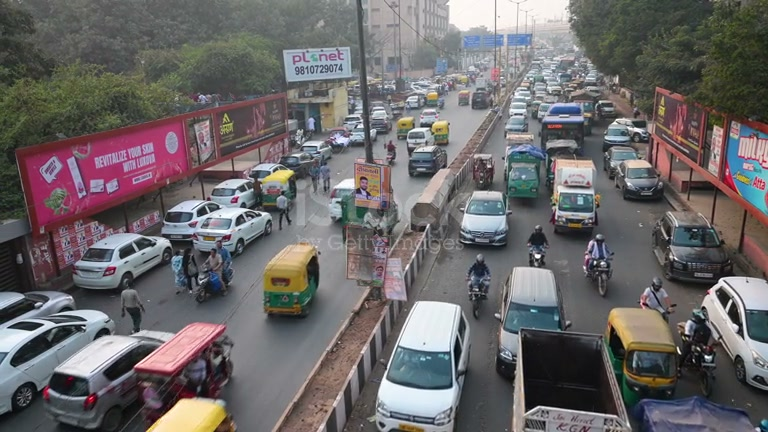bus: (540, 103, 585, 150), (505, 145, 544, 197)
car: (41, 328, 176, 431), (0, 307, 116, 417), (374, 300, 472, 430), (510, 327, 632, 431), (494, 265, 572, 381), (603, 306, 684, 407), (700, 275, 768, 392), (71, 231, 173, 291), (650, 209, 732, 283), (628, 394, 763, 431), (261, 240, 322, 318), (190, 207, 274, 256), (409, 166, 459, 243), (458, 189, 510, 247), (159, 199, 223, 240), (619, 160, 663, 202), (211, 178, 256, 207), (603, 146, 639, 178), (408, 147, 445, 178), (277, 153, 318, 180), (602, 124, 634, 150), (406, 128, 434, 156), (299, 140, 333, 163), (326, 128, 353, 151), (418, 108, 439, 128)
motorcycle: (585, 255, 612, 297), (467, 276, 490, 319), (467, 274, 491, 306)
pedestrian: (640, 277, 676, 317), (583, 232, 614, 274), (120, 283, 145, 333), (525, 224, 549, 267), (466, 253, 491, 293), (216, 238, 234, 285), (206, 247, 224, 290), (183, 248, 200, 291), (171, 250, 187, 293), (275, 191, 291, 229)
truck: (0, 306, 116, 416), (132, 321, 234, 423), (551, 158, 599, 235), (541, 102, 585, 151)
